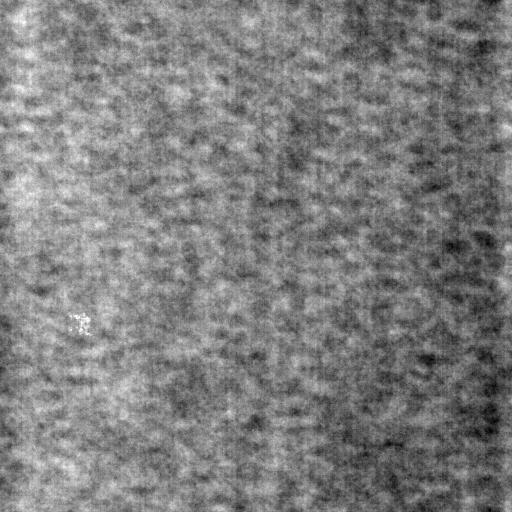DefectTypeA: (70, 311, 92, 338)
